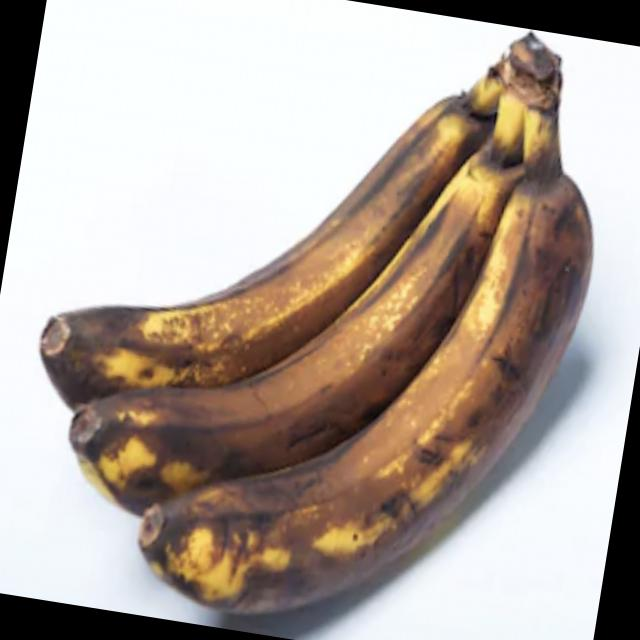rotten-banana: (132, 84, 611, 640), (69, 67, 536, 556), (30, 0, 495, 438)
